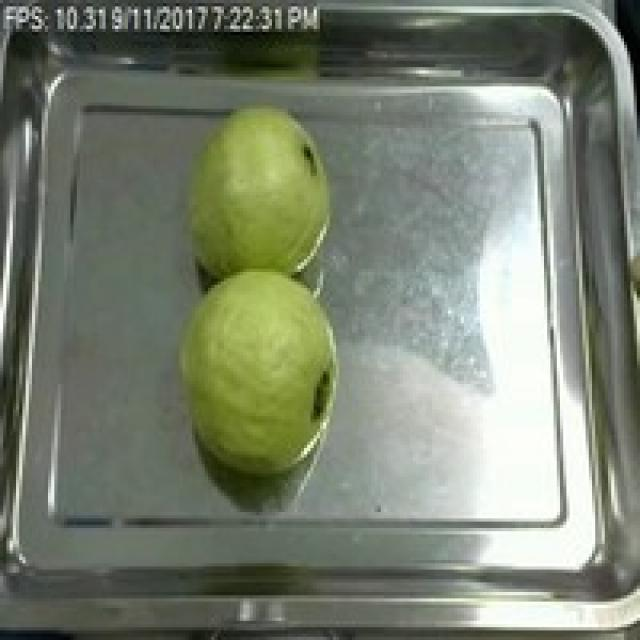Fruit: (166, 256, 349, 483), (167, 93, 346, 291)
